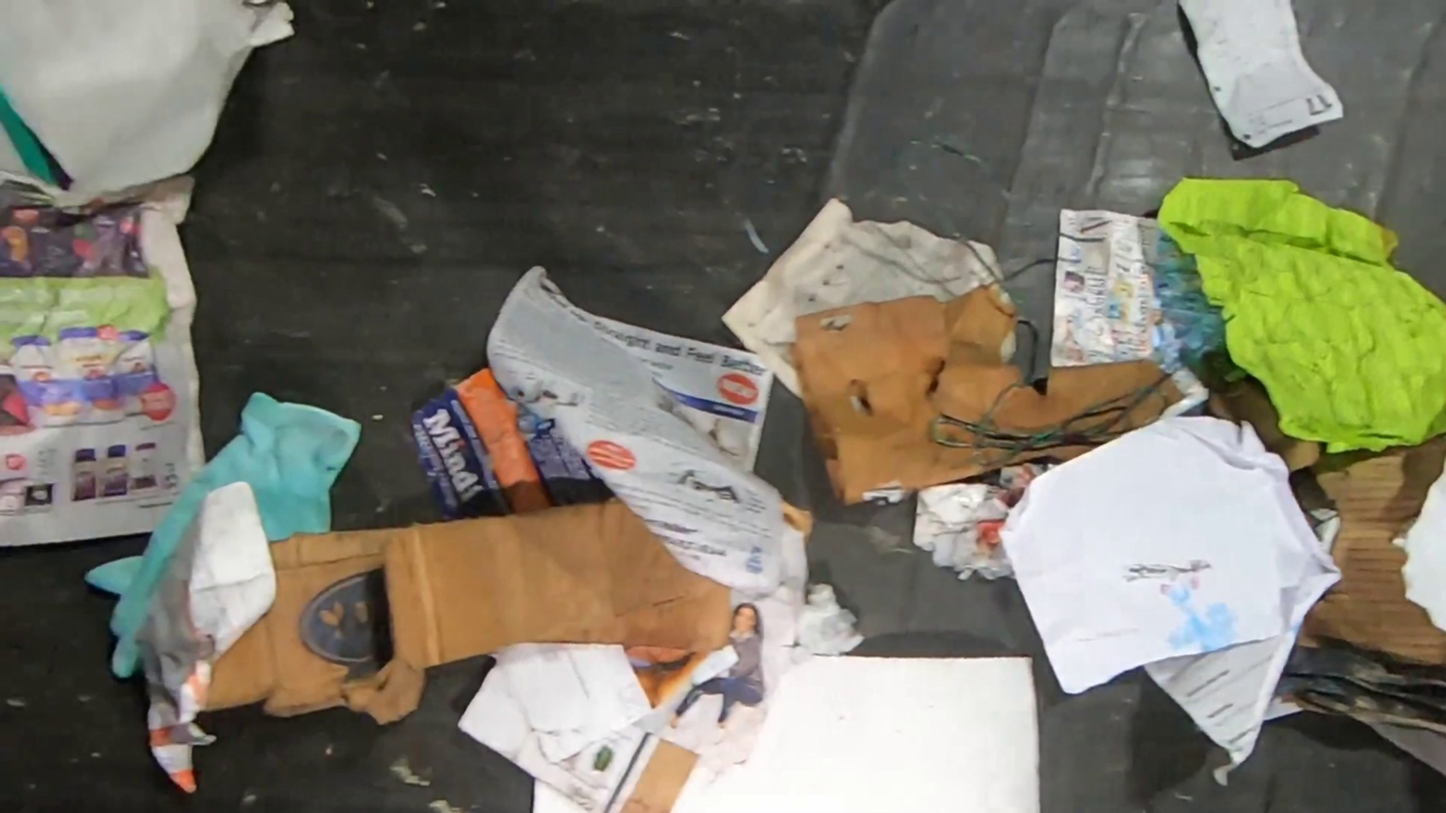cardboard: (203, 496, 735, 727), (786, 279, 1190, 508), (1204, 378, 1446, 738)
plastic: (81, 390, 365, 680)
